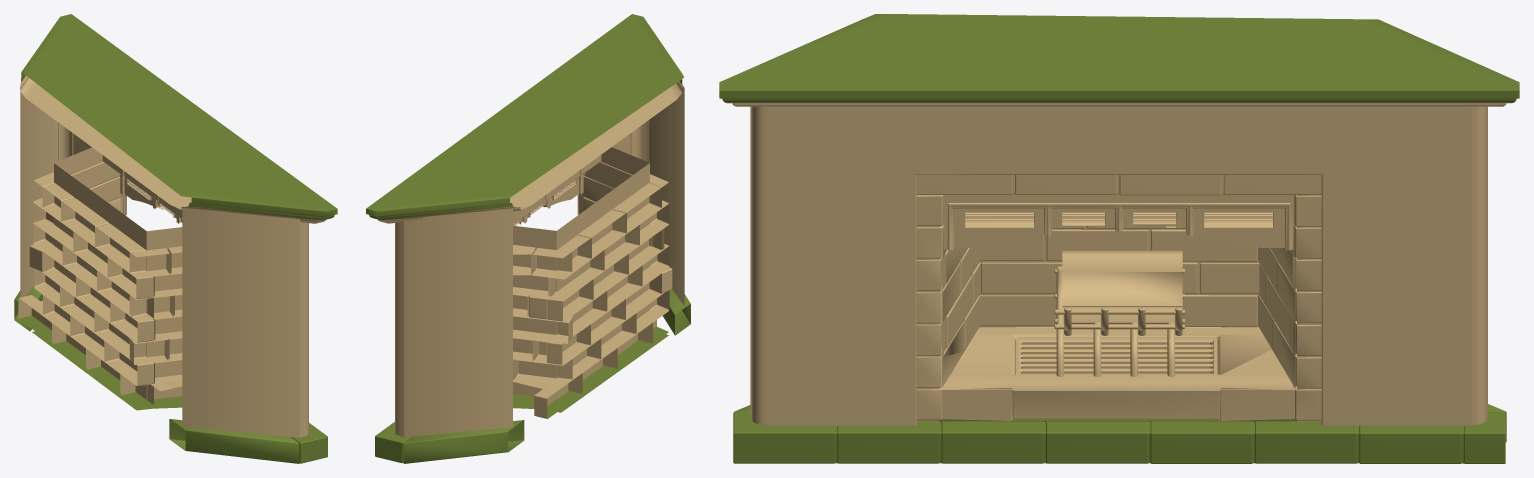
File: camino.fbx
3 views of the same model, side by side, from view 1: azimuth 30°, elevation 25°; view 2: azimuth 150°, elevation 25°; view 3: azimuth 270°, elevation 25° (orthographic). The views are drawn at different scales.
Parts seen in each view (by area): view 1: Camino.002; view 2: Camino.002; view 3: Camino.002.
Part boxes in pixels (x1,y1,x2,y2): Camino.002: (14,14,337,463); Camino.002: (366,14,690,463); Camino.002: (719,14,1519,463).
Size of the model in its own units: 42.29 by 82.96 by 160.
